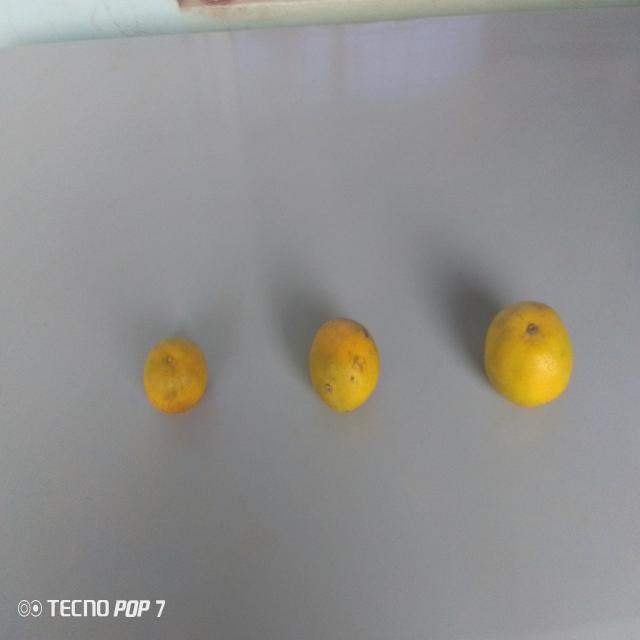Ripe orange: (478, 293, 576, 414), (302, 311, 385, 426), (136, 332, 213, 420)
